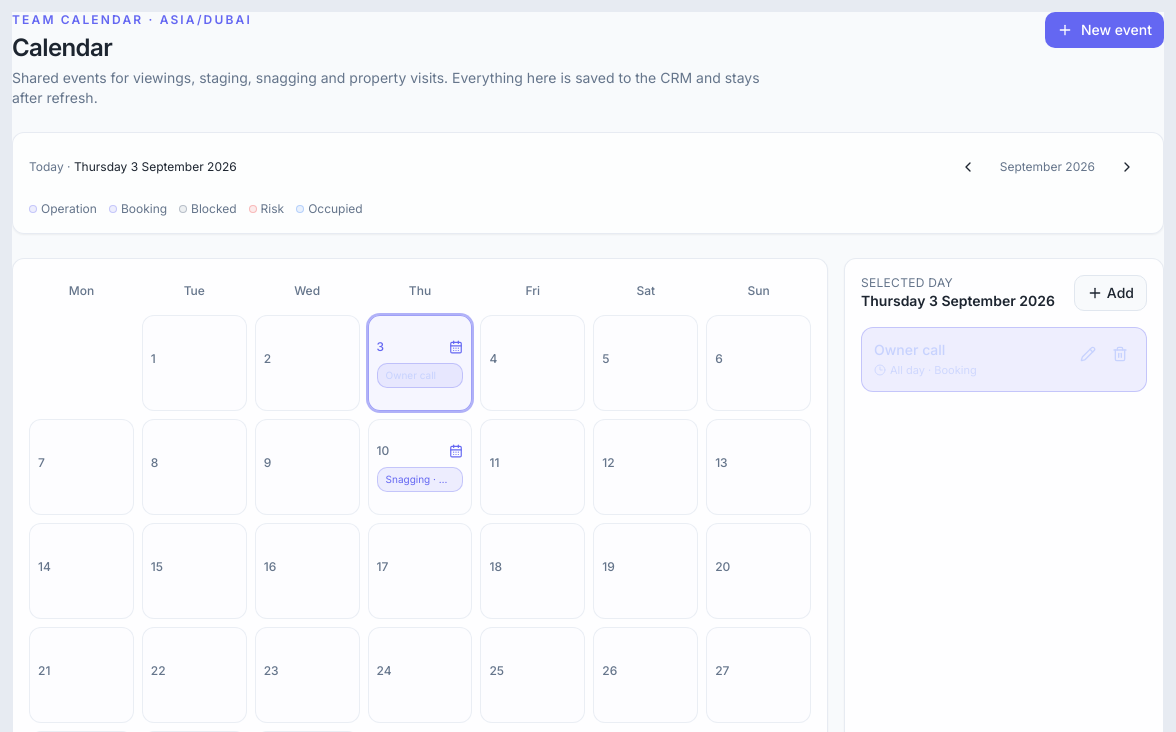
LiveCalendarModule › renders persisted events on their Dubai calendar day and lists them for the selected day
Expected: the element with test id "live-calendar-event-evt-2" shows "All day", [890,363,925,377]
Expected: the text "Snagging · Marina Gate" is shown, [377,466,464,492]
Click the button with test id "live-calendar-day-2026-09-10": (420, 467) [368,419,472,515]
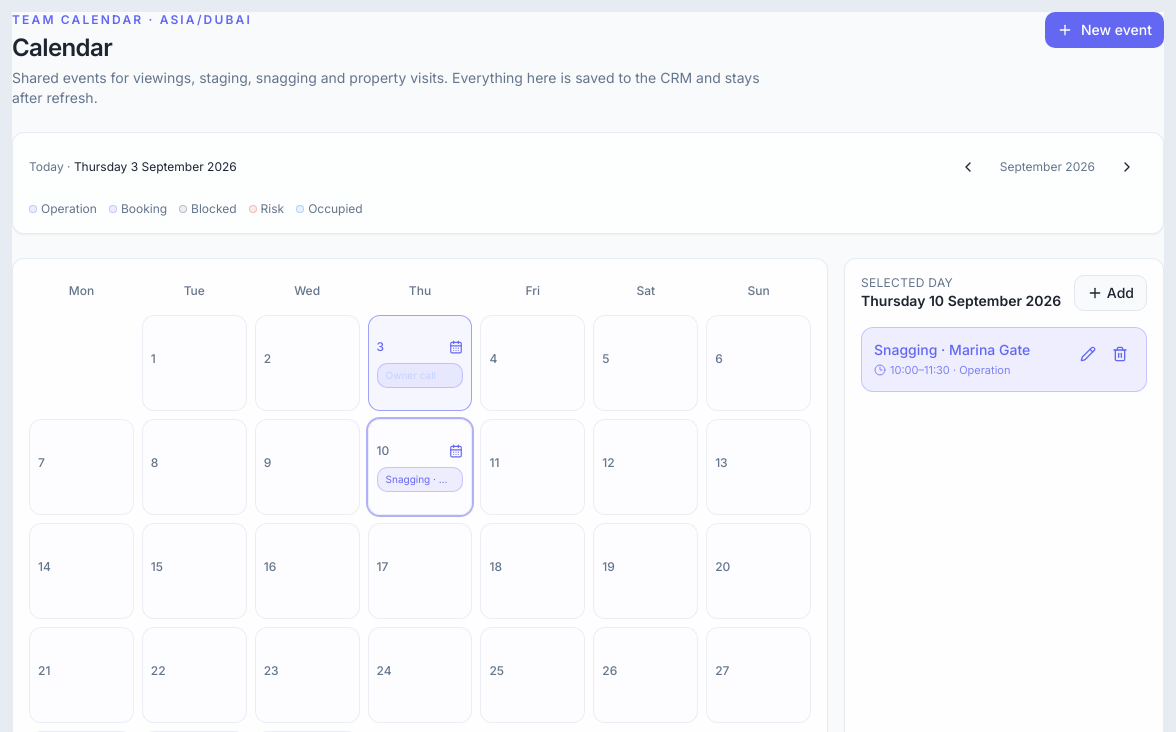
Expected: the element with test id "live-calendar-event-evt-1" shows "10:00–11:30", [890,363,950,377]
Expected: the element with test id "live-calendar-event-evt-2" is gone
